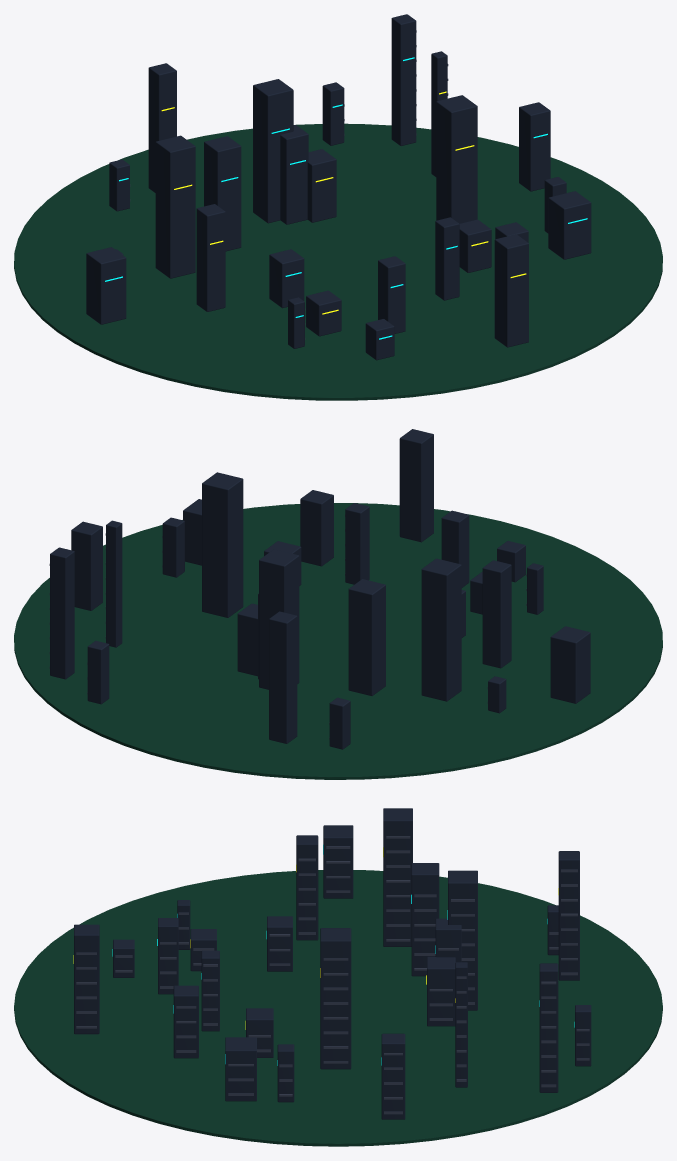
The model's file is backdrop_01.glb.
3 renders of one model, top to bottom at view 1: azimuth 30°, elevation 25°; view 2: azimuth 150°, elevation 25°; view 3: azimuth 270°, elevation 25°, orthographic.
Parts seen in each view (by area): view 1: backdrop_01; view 2: backdrop_01; view 3: backdrop_01.
Boxes of the visible parts, x1,y1,x2,y2 form: backdrop_01: (14, 14, 662, 400); backdrop_01: (14, 429, 662, 779); backdrop_01: (14, 808, 662, 1146).
Size of the model in its own units: 80 by 18.01 by 80.
